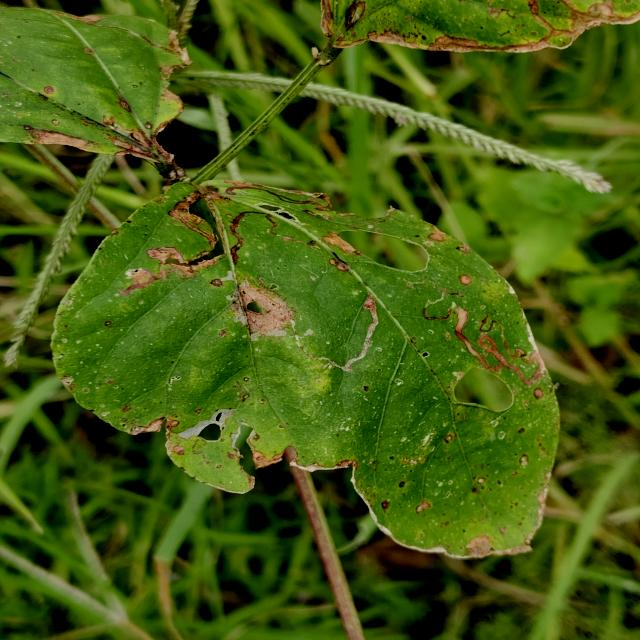leaf-moderate: (54, 181, 558, 640), (313, 0, 640, 66)
sitaw-aphid-low: (0, 8, 191, 181)
